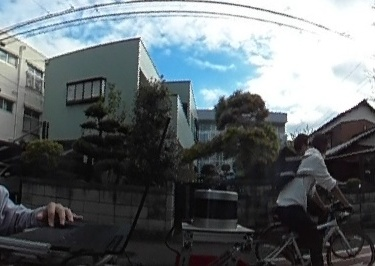person: (279, 133, 340, 258)
